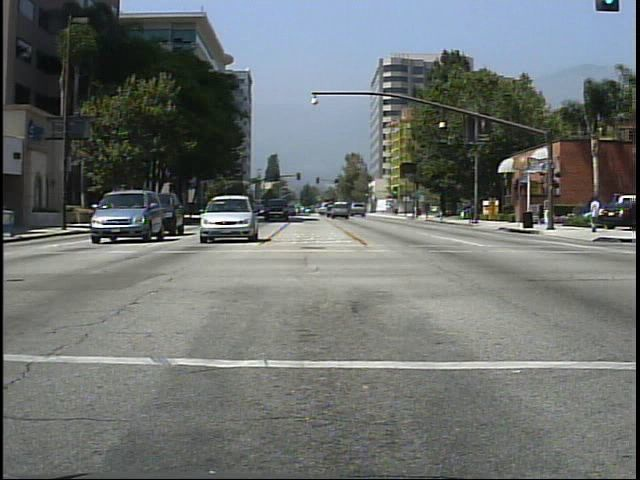person: (537, 193, 556, 235), (587, 195, 605, 234)
